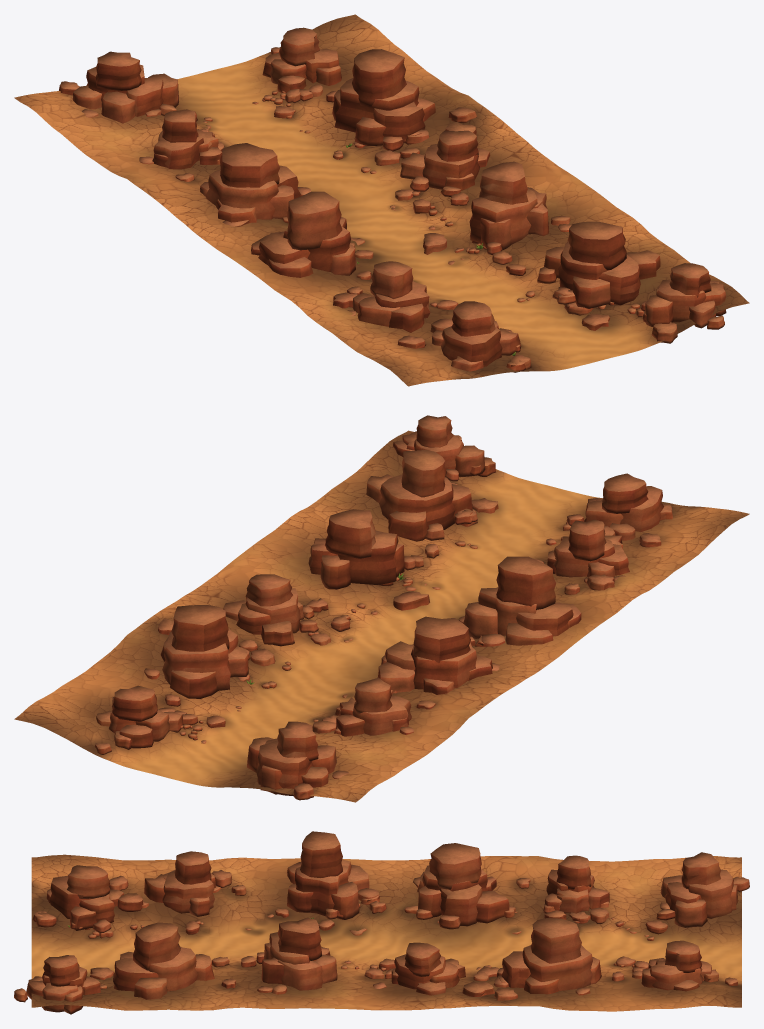
The model's file is v1_desert.fbx.
3 views of the same model, one above another, from view 1: azimuth 30°, elevation 25°; view 2: azimuth 150°, elevation 25°; view 3: azimuth 270°, elevation 25° (orthographic). The views are drawn at different scales.
Visible parts, largest first — view 1: Terrain_Ground, Cliffs_East, Cliffs_West, Boulders_Medium, Stones_Scatter; view 2: Terrain_Ground, Cliffs_East, Cliffs_West, Boulders_Medium, Stones_Scatter; view 3: Terrain_Ground, Cliffs_West, Cliffs_East, Boulders_Medium, Stones_Scatter.
Boxes of the visible parts, x1=… form: Terrain_Ground: x1=14, y1=14, x2=749, y2=386; Cliffs_East: x1=262, y1=27, x2=726, y2=329; Cliffs_West: x1=72, y1=51, x2=525, y2=372; Boulders_Medium: x1=59, y1=47, x2=677, y2=371; Stones_Scatter: x1=200, y1=91, x2=639, y2=346; Terrain_Ground: x1=14, y1=430, x2=749, y2=802; Cliffs_East: x1=96, y1=415, x2=485, y2=748; Cliffs_West: x1=247, y1=473, x2=663, y2=796; Boulders_Medium: x1=95, y1=457, x2=672, y2=800; Stones_Scatter: x1=179, y1=536, x2=566, y2=743; Terrain_Ground: x1=31, y1=854, x2=741, y2=1011; Cliffs_West: x1=33, y1=831, x2=738, y2=933; Cliffs_East: x1=14, y1=917, x2=711, y2=1014; Boulders_Medium: x1=28, y1=870, x2=749, y2=1000; Stones_Scatter: x1=85, y1=911, x2=654, y2=988.
Bounding box in the file's own units: 2400 × 509 × 4974.
